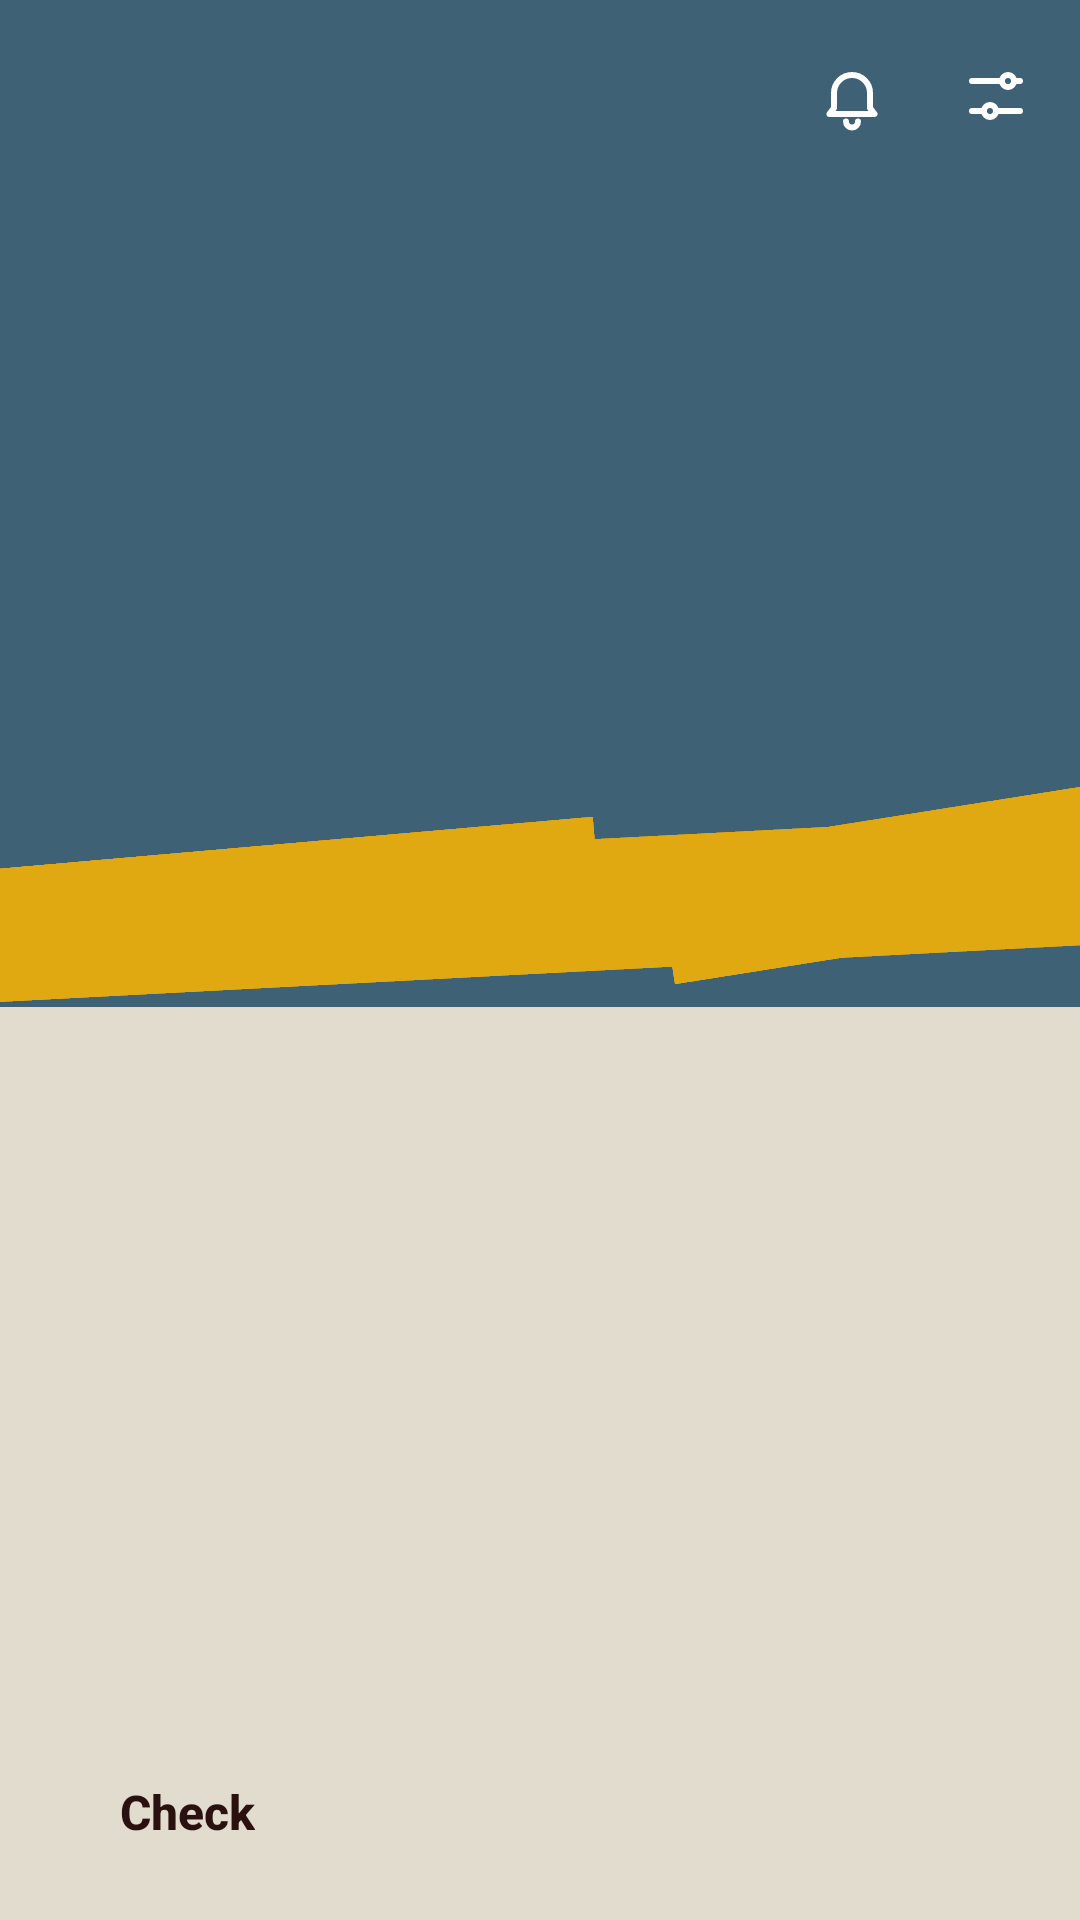

Screen size 1080*1920. Icon name, then its box in pixels as (x1, y1, x2, y2):
Notifications: (826, 72, 878, 131)
Settings: (969, 72, 1023, 120)
